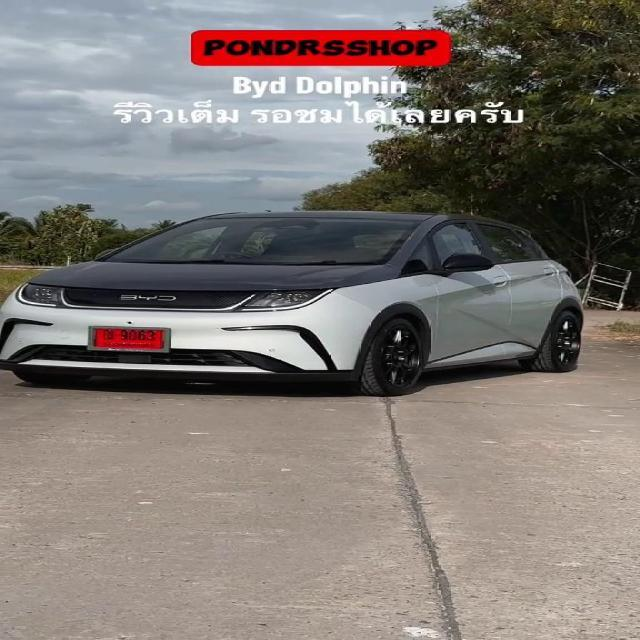Hatchback: (0, 211, 583, 396)
